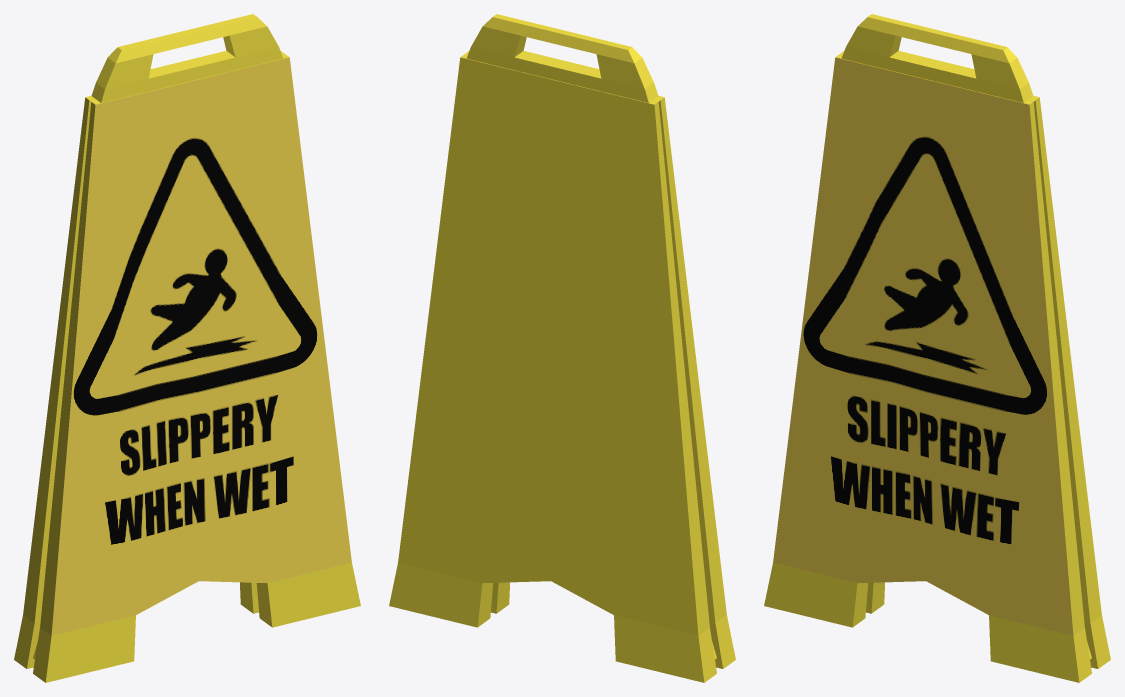
File: JC_Sign.fbx
The picture shows the model from 3 angles, left to right: view 1: azimuth 30°, elevation 25°; view 2: azimuth 150°, elevation 25°; view 3: azimuth 330°, elevation 25°; orthographic projection.
Parts seen in each view (by area): view 1: Cube.001; view 2: Cube.001; view 3: Cube.001.
Boxes of the visible parts, x1=… form: Cube.001: x1=14, y1=14, x2=360, y2=682; Cube.001: x1=389, y1=14, x2=735, y2=682; Cube.001: x1=764, y1=14, x2=1110, y2=682.
Bounding box in the file's own units: 210 × 382 × 36.48.
